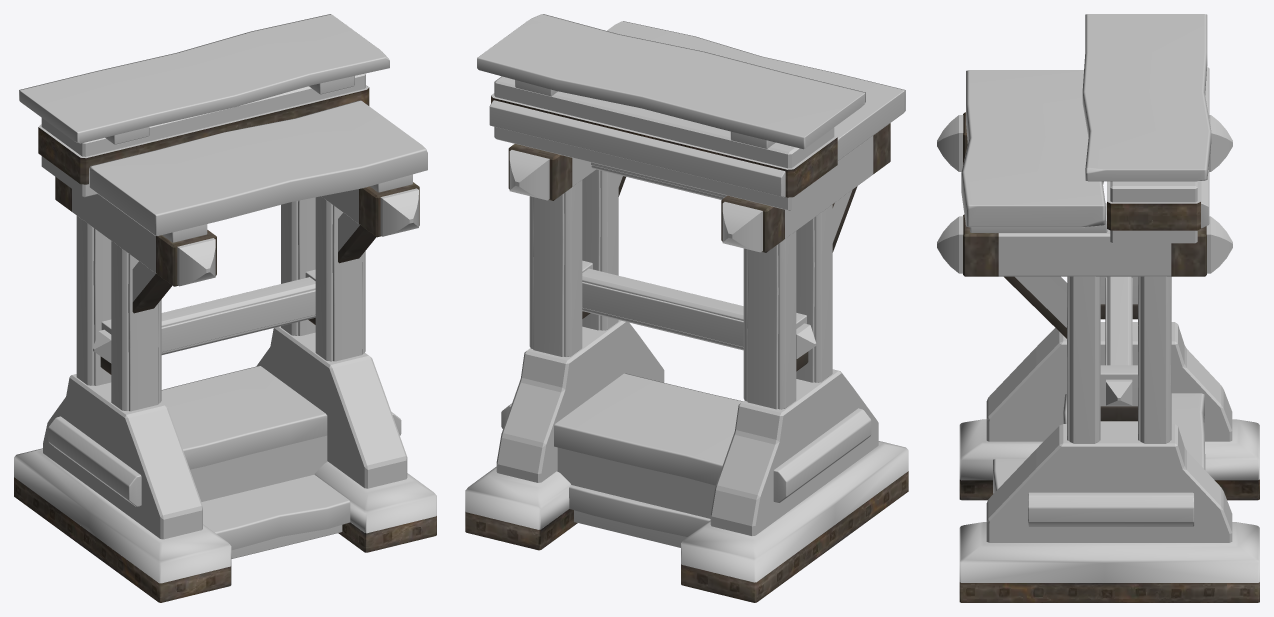
The picture shows the model from 3 angles, left to right: view 1: azimuth 30°, elevation 25°; view 2: azimuth 150°, elevation 25°; view 3: azimuth 270°, elevation 25°; orthographic projection. The views are drawn at different scales.
Parts seen in each view (by area): view 1: SM_Dowdun_Lectern_A_01_LOD0; view 2: SM_Dowdun_Lectern_A_01_LOD0; view 3: SM_Dowdun_Lectern_A_01_LOD0.
Part boxes in pixels (bbox=[...]): SM_Dowdun_Lectern_A_01_LOD0: bbox=[14, 14, 436, 602]; SM_Dowdun_Lectern_A_01_LOD0: bbox=[465, 14, 908, 602]; SM_Dowdun_Lectern_A_01_LOD0: bbox=[937, 14, 1259, 602].
Size of the model in its own units: 1.06 by 1.39 by 0.9241.
